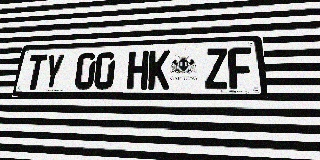0: (74, 52, 97, 89), (93, 52, 116, 89)
F: (228, 47, 254, 89)
H: (127, 51, 149, 89)
K: (148, 50, 170, 89)
T: (24, 54, 48, 89)
Y: (42, 54, 65, 89)
Z: (205, 48, 229, 89)
